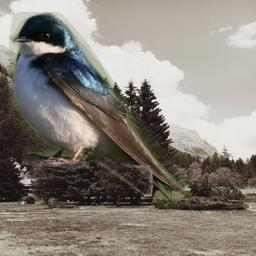Swallow: (9, 12, 190, 216)
